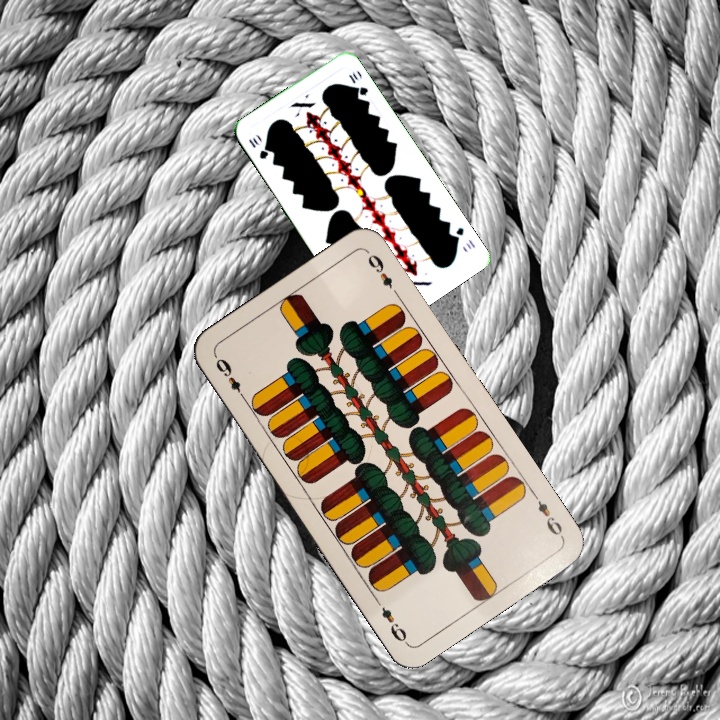E9: (211, 352, 250, 404), (528, 488, 566, 541)
G10: (449, 223, 478, 252), (244, 134, 271, 162)
